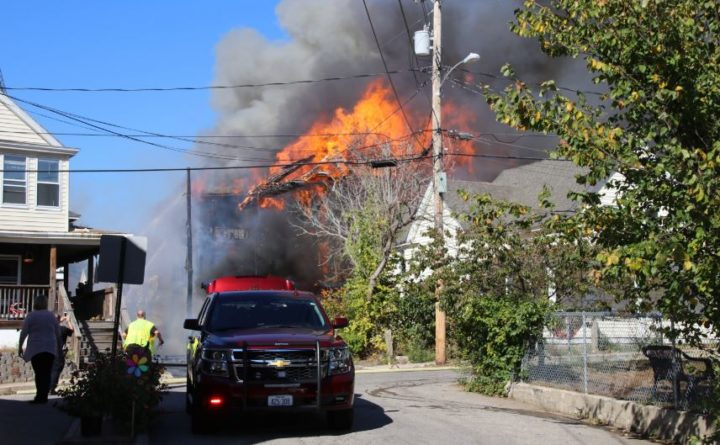fire: (284, 100, 449, 158)
smoke: (215, 8, 559, 96), (179, 96, 278, 271)
